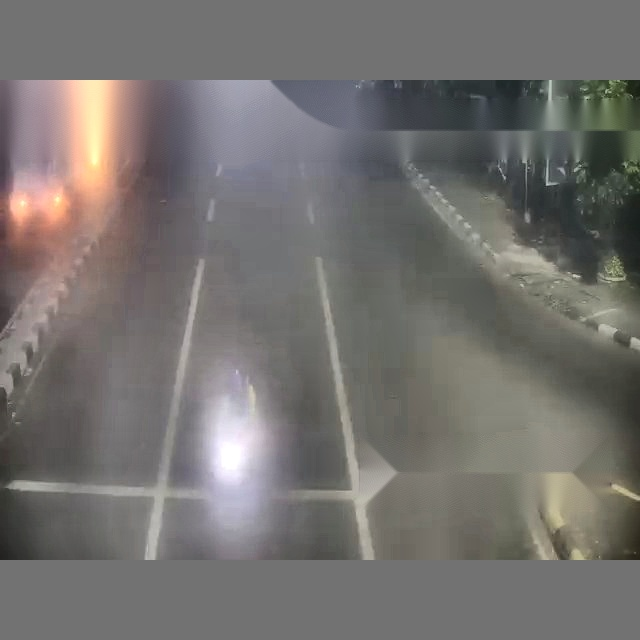Truk: (194, 67, 639, 556)
